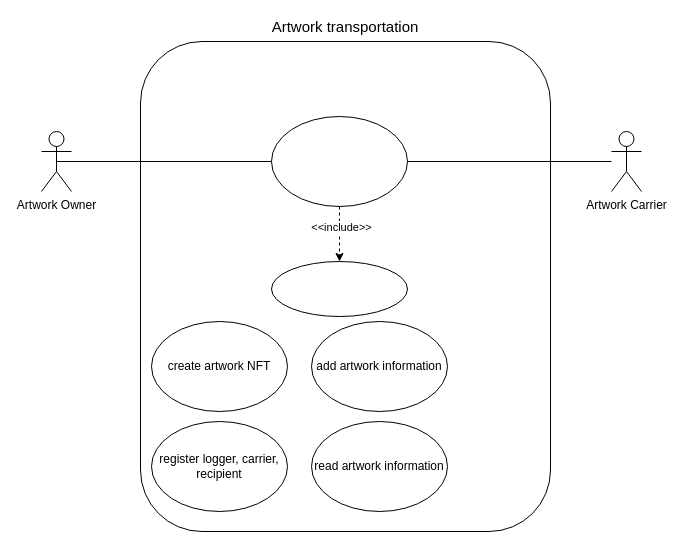
The diagram is 684 pixels wide and 549 high, and some of its shapes have lost their labels. Each missing label, with the centre of its shape:
"check integrity of artwork" goes at (339,288).
"hand over custody to carrier" goes at (339,161).
